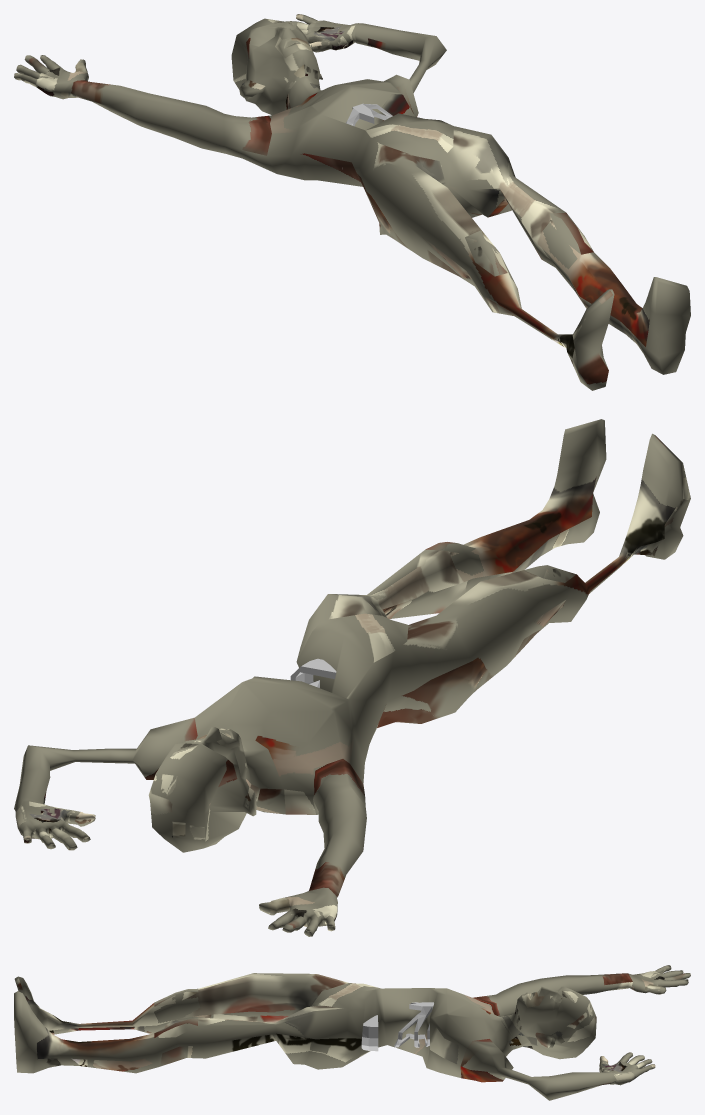
File: died2.obj
3 views of the same model, one above another, from view 1: azimuth 30°, elevation 25°; view 2: azimuth 150°, elevation 25°; view 3: azimuth 270°, elevation 25° (orthographic). The views are drawn at different scales.
Visible parts, largest first — view 1: Mesh.002; view 2: Mesh.002; view 3: Mesh.002.
Part boxes in pixels (left/top/right/bottom): Mesh.002: left=14, top=14, right=690, bottom=390; Mesh.002: left=14, top=419, right=690, bottom=936; Mesh.002: left=14, top=965, right=690, bottom=1100.
Size of the model in its own units: 1.03 by 0.2818 by 2.3.
